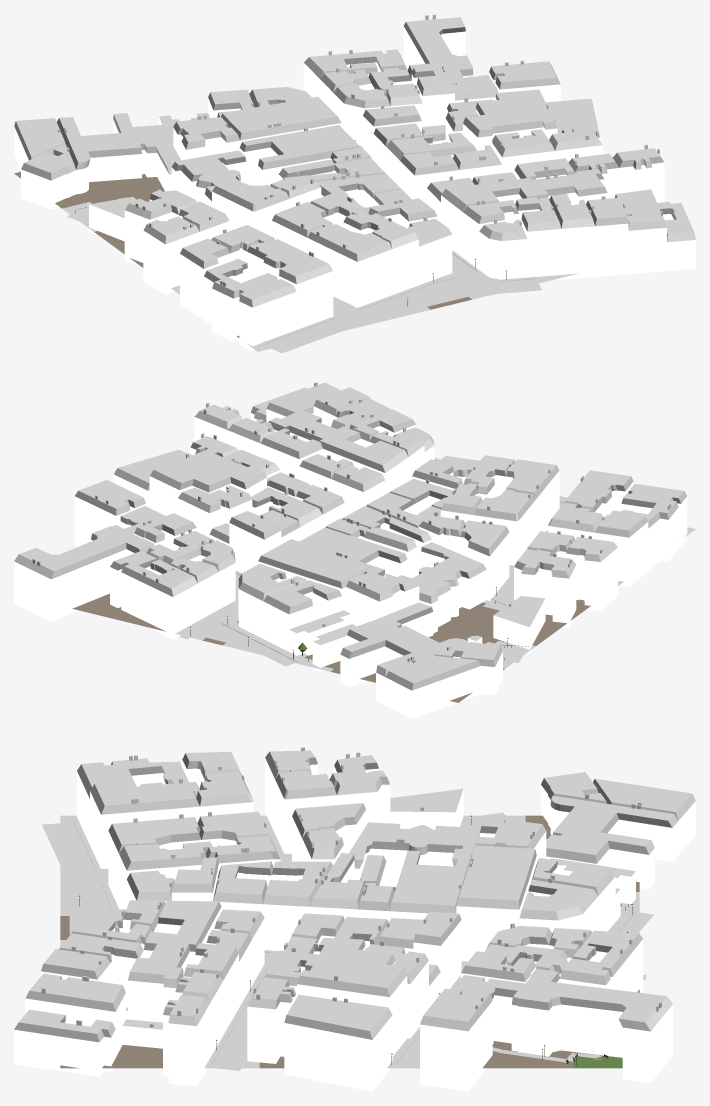
Rendered from zone_A1.glb.
The picture shows the model from 3 angles, top to bottom: view 1: azimuth 30°, elevation 25°; view 2: azimuth 150°, elevation 25°; view 3: azimuth 270°, elevation 25°; orthographic projection. The views are drawn at different scales.
Parts seen in each view (by area): view 1: zone_A1_batiments, zone_A1_sol_NOCOL, zone_A1_terrain; view 2: zone_A1_batiments, zone_A1_terrain, zone_A1_sol_NOCOL; view 3: zone_A1_batiments, zone_A1_sol_NOCOL, zone_A1_terrain.
Part boxes in pixels (bbox=[...]): zone_A1_batiments: bbox=[14, 14, 695, 350]; zone_A1_sol_NOCOL: bbox=[67, 210, 541, 353]; zone_A1_terrain: bbox=[14, 146, 577, 351]; zone_A1_batiments: bbox=[14, 382, 687, 718]; zone_A1_terrain: bbox=[72, 496, 695, 702]; zone_A1_sol_NOCOL: bbox=[179, 457, 687, 666]; zone_A1_batiments: bbox=[14, 747, 695, 1091]; zone_A1_sol_NOCOL: bbox=[42, 812, 654, 1070]; zone_A1_terrain: bbox=[60, 815, 639, 1068].
Size of the model in its own units: 208 by 28.1 by 215.
